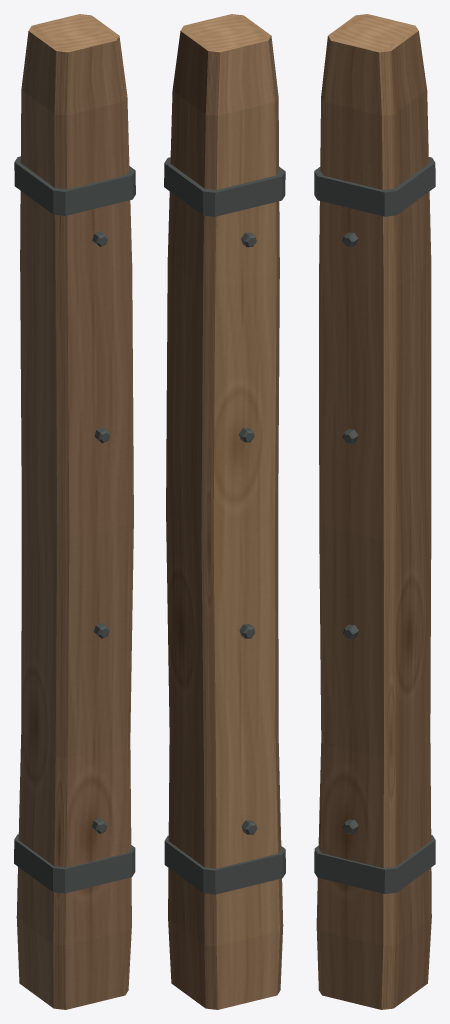
Rendered from fence_post_01.glb.
3 renders of one model, left to right at view 1: azimuth 30°, elevation 25°; view 2: azimuth 210°, elevation 25°; view 3: azimuth 330°, elevation 25°, orthographic.
Parts seen in each view (by area): view 1: TileDecorationFencePost01; view 2: TileDecorationFencePost01; view 3: TileDecorationFencePost01.
Boxes of the visible parts, bbox=[...] form: TileDecorationFencePost01: bbox=[14, 14, 135, 1009]; TileDecorationFencePost01: bbox=[164, 14, 285, 1009]; TileDecorationFencePost01: bbox=[314, 14, 435, 1009].
Size of the model in its own units: 0.0863 by 0.95 by 0.1027.
Materials: 2 (1 with a texture image).
